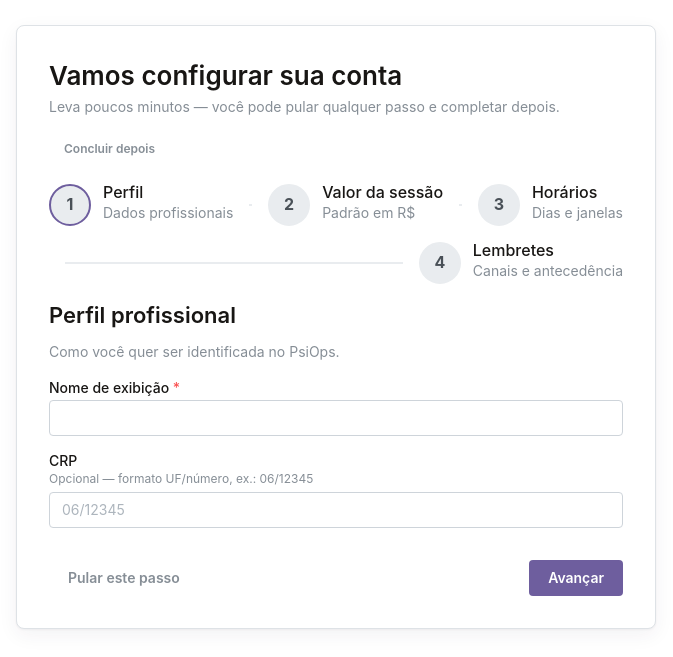
OnboardingPage › valida o formato do CRP quando preenchido
Expected: the form with test id "onboarding-step-perfil" is shown, [49, 300, 623, 596]
Type "Ana Beatriz" into the field labelled "Nome de exibição" at point(336, 418), box [49, 400, 623, 436]
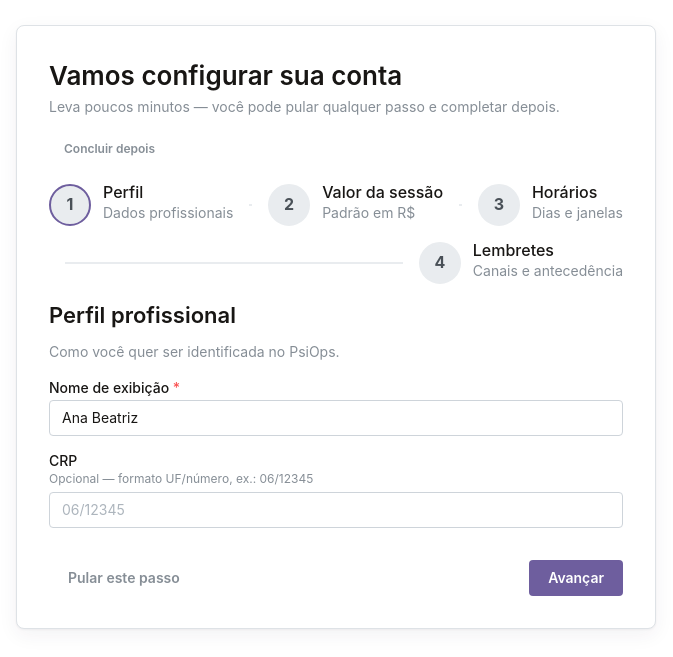
Type "invalido" into the field labelled "CRP" at point(336, 510), box [49, 492, 623, 528]
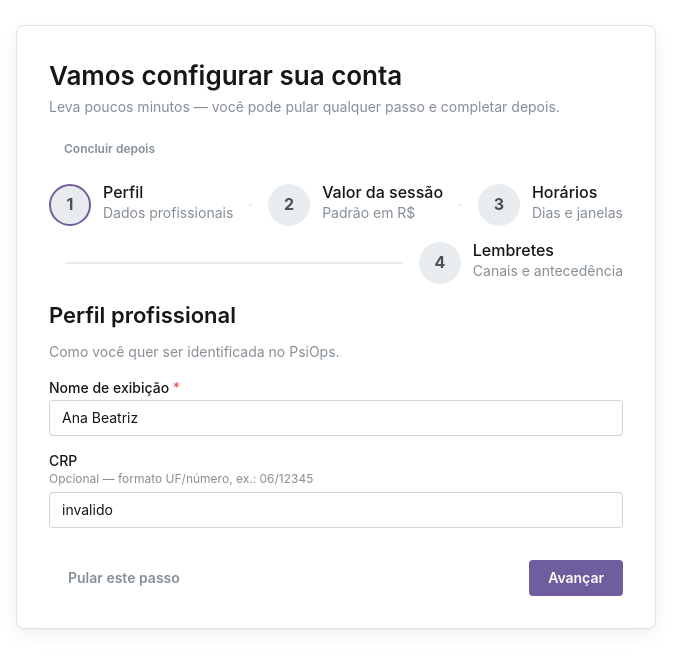
Click the button "Avançar" at point(576, 578), box [529, 560, 623, 596]
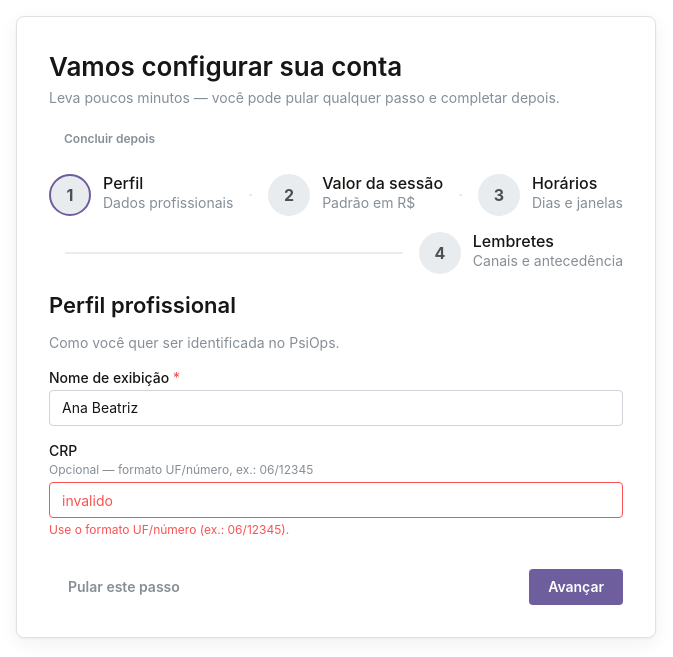
Expected: the text "Use o formato UF/número (ex.: 06/12345)." is shown, [49, 522, 289, 537]
